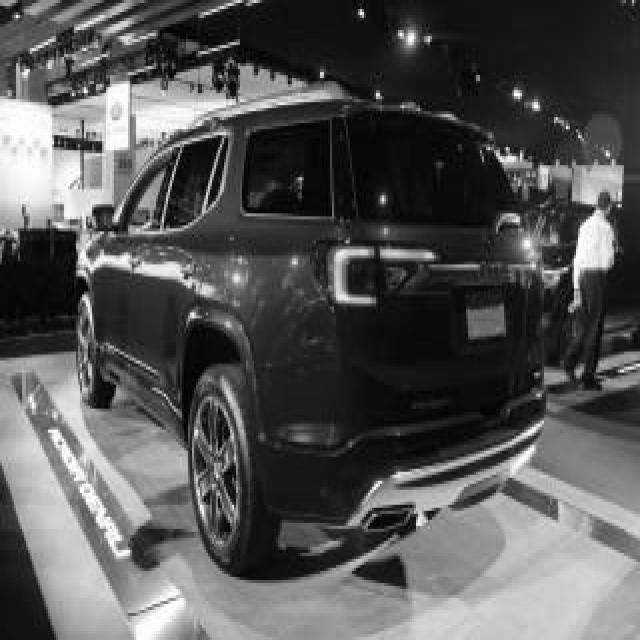Car: (80, 92, 545, 574)
